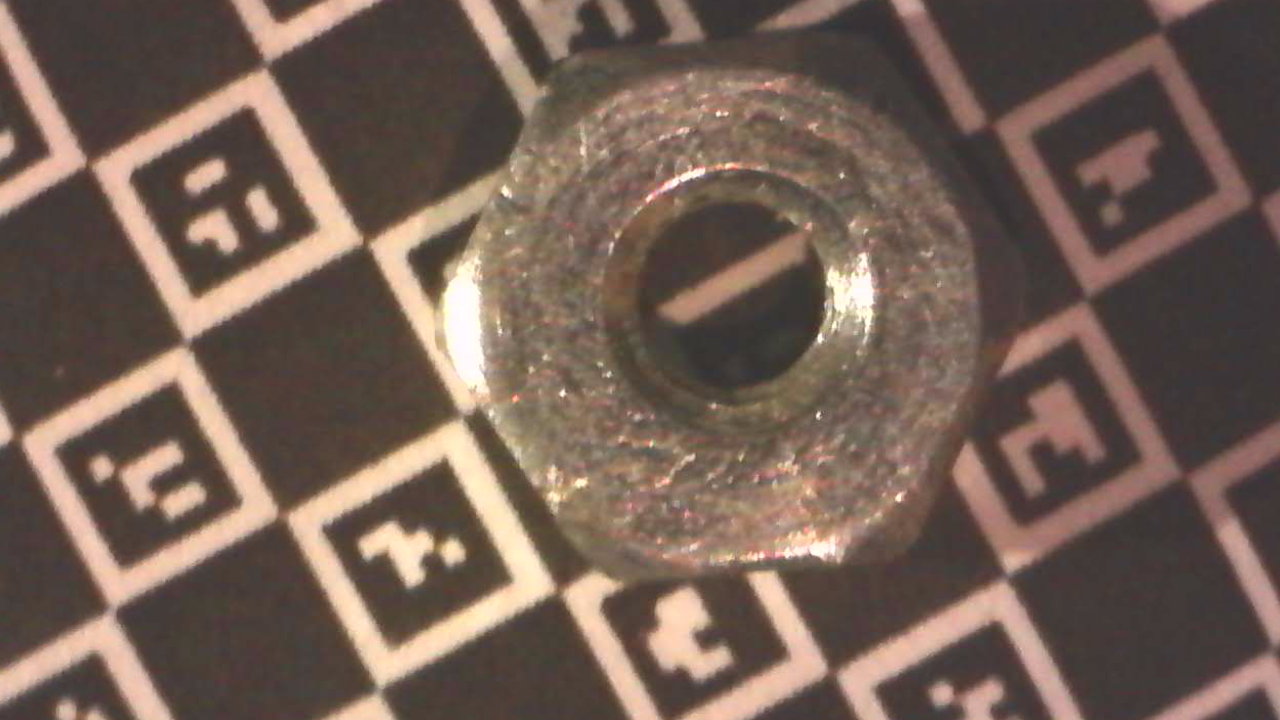Bolt: (431, 31, 1038, 582)
